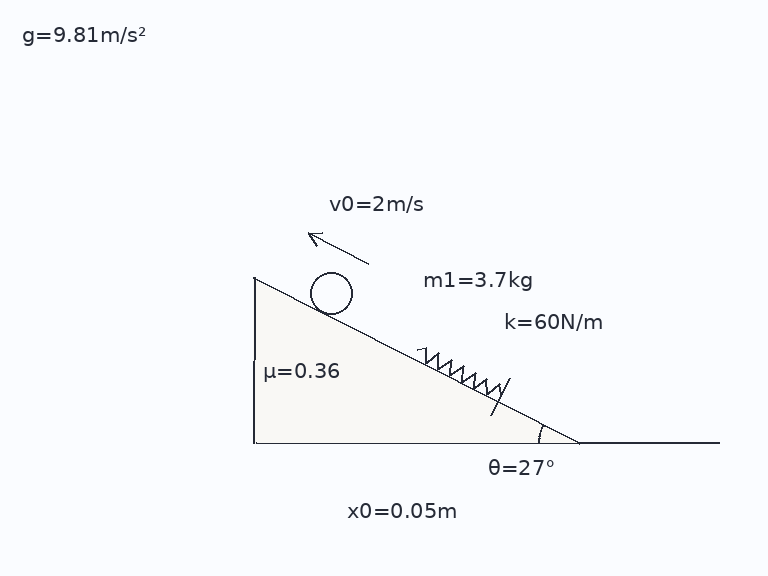ball: (308, 270, 354, 316)
ramp: (252, 275, 581, 445)
spring: (415, 345, 504, 396)
